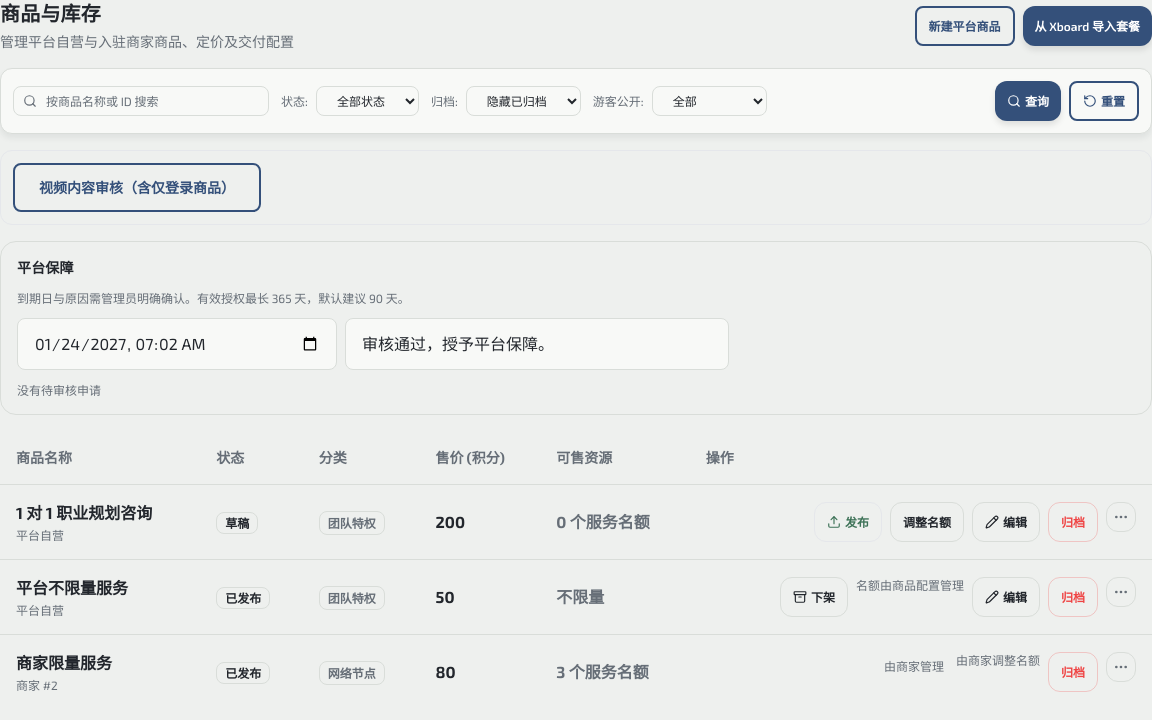
Scenario: AdminProductPanel platform capacity › adjusts the quota and shows the new remaining count before the list reloads
Click the button with test id "admin-adjust-capacity-6": click(927, 522) [890,502,964,542]
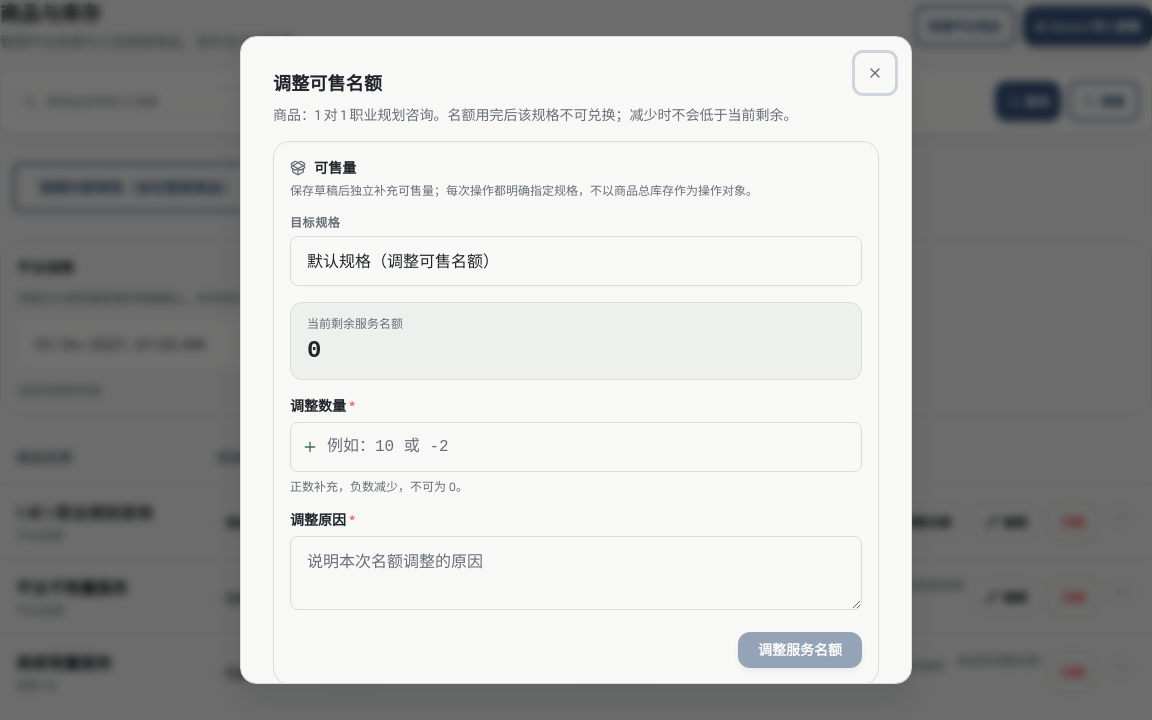
Expected: the text with test id "availability-current-stock" reads "0", [307,337,321,364]
In the number field with test id "availability-capacity-delta": (576, 447) [290,422,862,472], type "4"
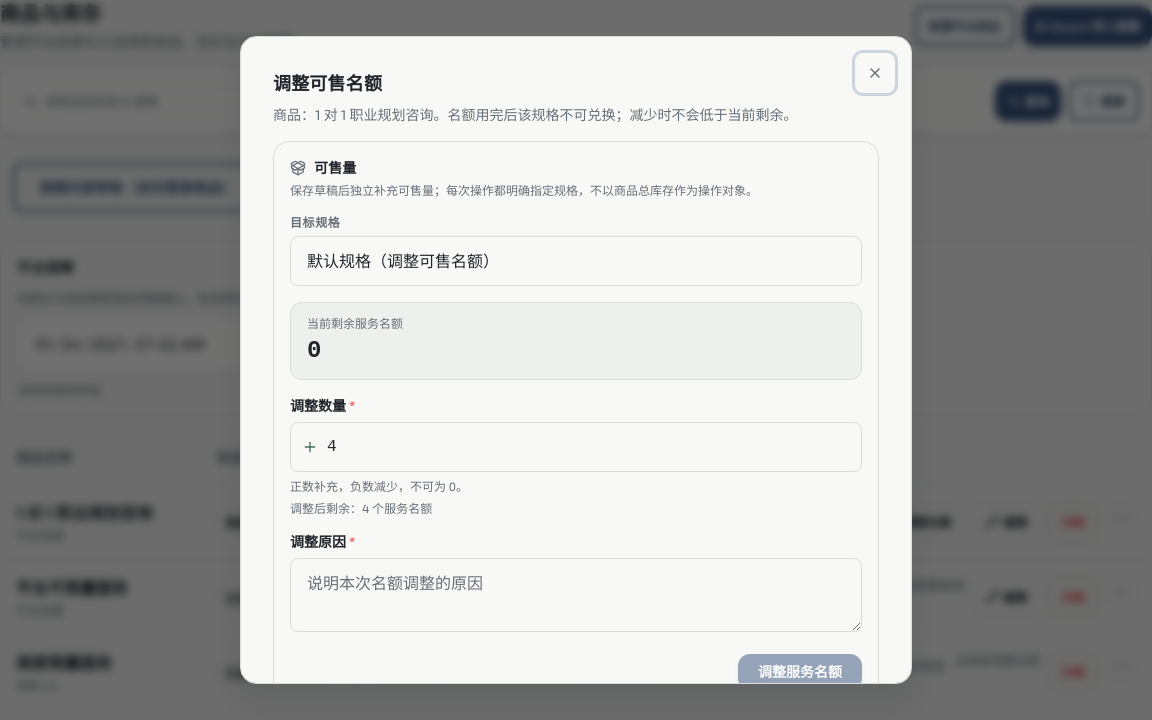
In the text box with test id "availability-capacity-reason": (576, 595) [290,558,862,632], type "十月名额"
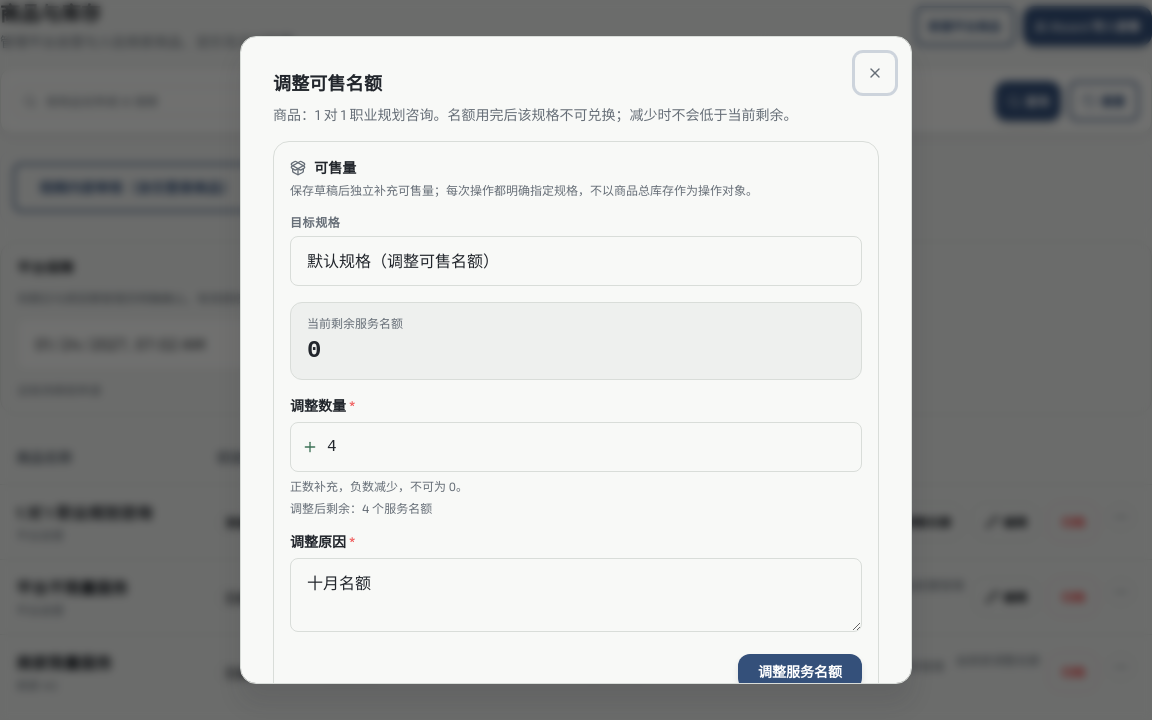
Click the button with test id "availability-capacity-submit": click(800, 672) [738,654,862,690]
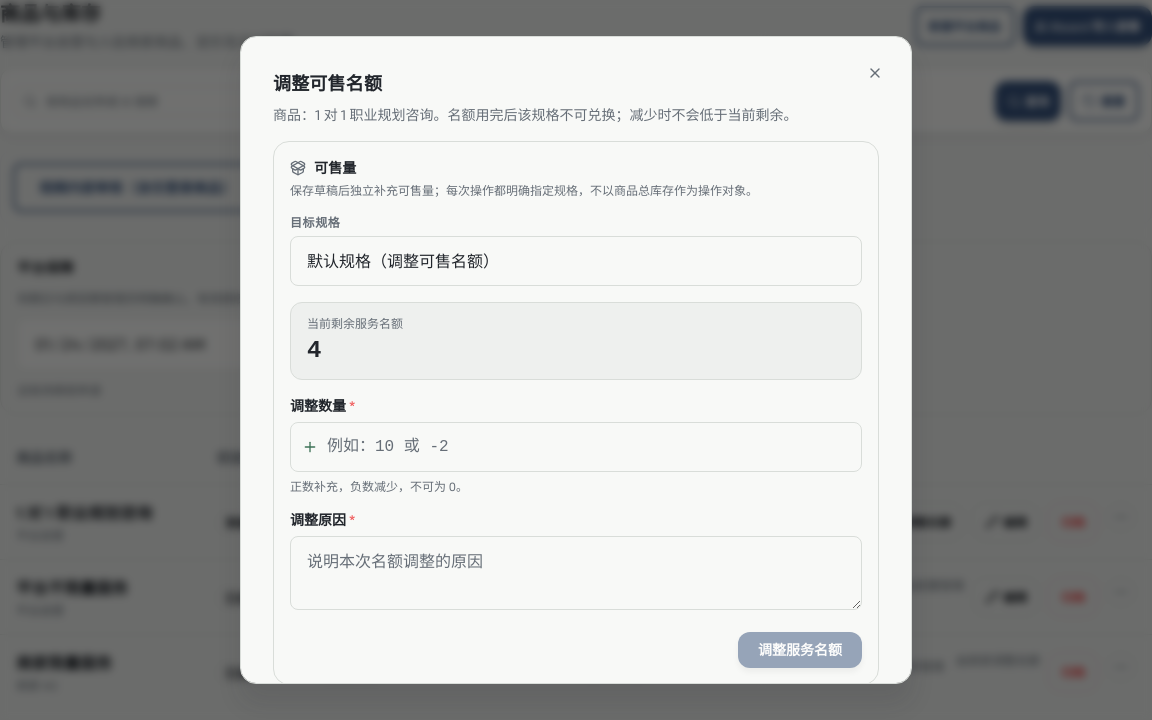
Expected: the text with test id "availability-current-stock" reads "4", [307,337,321,364]
